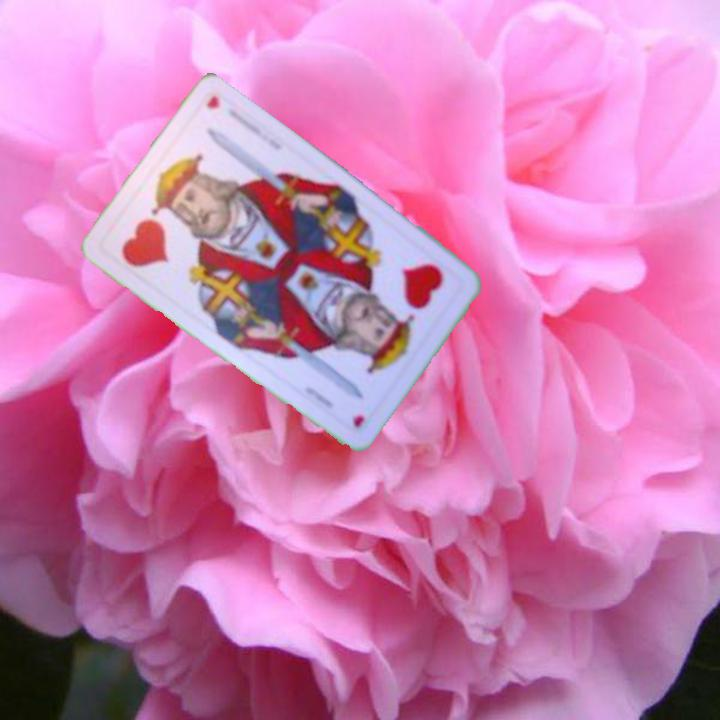h_k.png: (343, 230, 469, 359), (97, 167, 223, 296)
